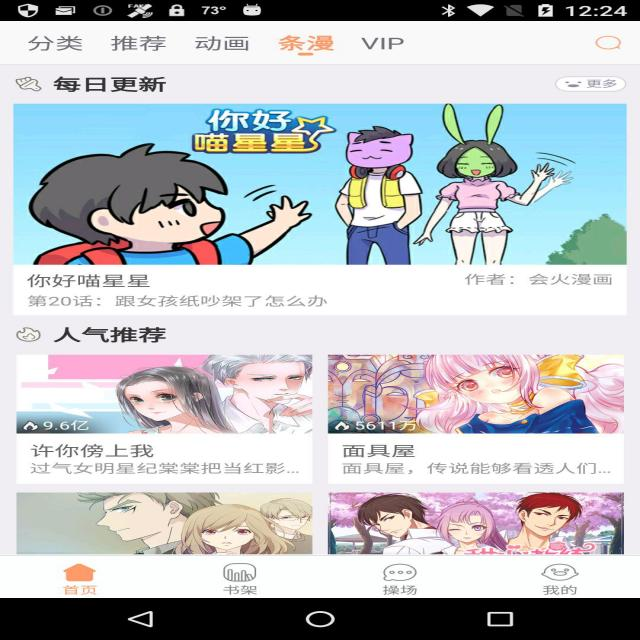button: (362, 557, 456, 597), (51, 559, 128, 604), (545, 66, 635, 104), (202, 564, 286, 601), (529, 563, 606, 601), (577, 34, 640, 62)
image: (13, 113, 632, 266), (330, 343, 603, 434), (32, 353, 313, 430), (9, 492, 317, 556), (338, 495, 628, 553)
text: (19, 30, 447, 64), (19, 276, 339, 315), (21, 441, 304, 478), (338, 447, 618, 479), (11, 70, 200, 101), (5, 326, 200, 346), (456, 274, 635, 288)
